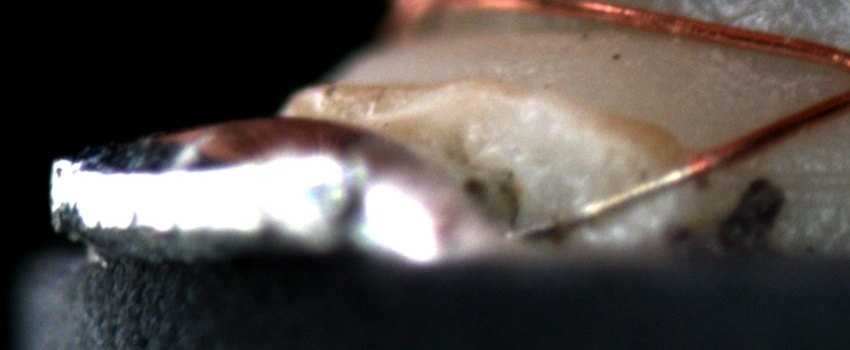DL: (759, 155, 849, 208)
TTCW: (497, 135, 759, 244)
